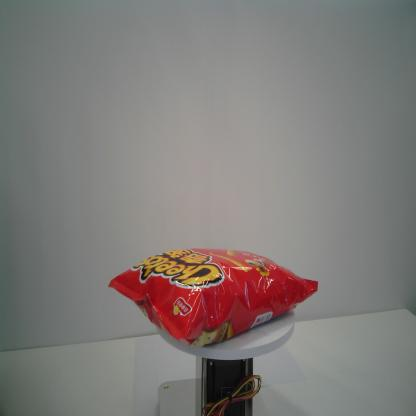Puffed Food: (102, 242, 319, 350)
